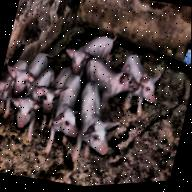boar: (0, 6, 170, 182)
